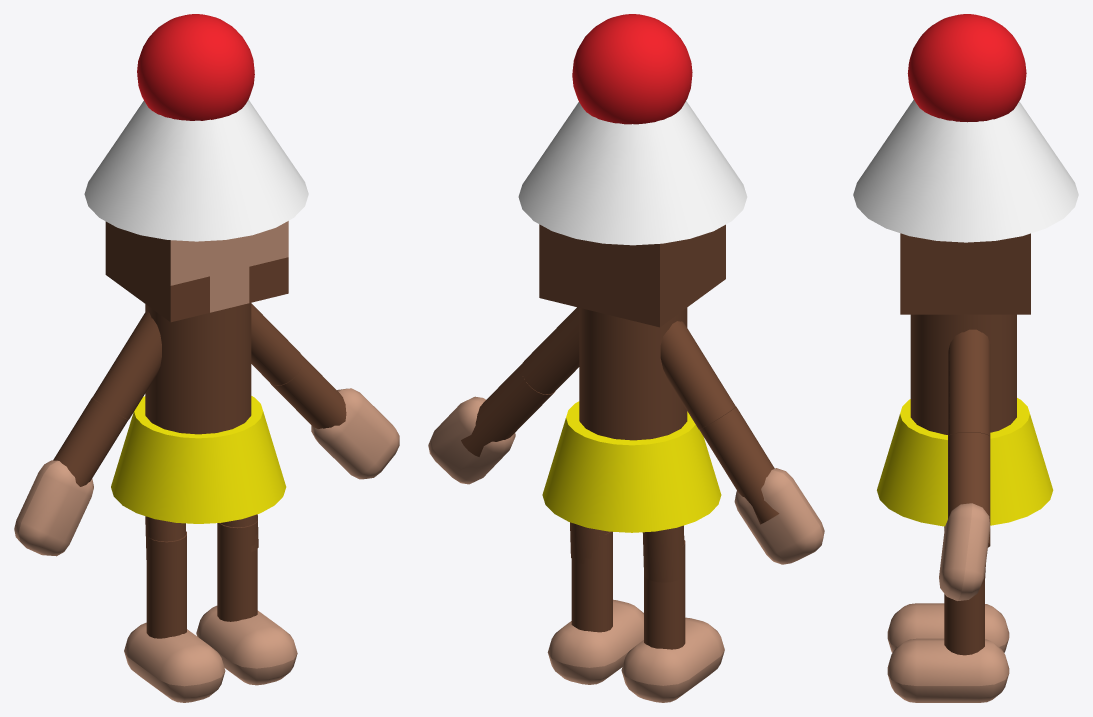
File: Saru.fbx
3 views of the same model, side by side, from view 1: azimuth 30°, elevation 25°; view 2: azimuth 150°, elevation 25°; view 3: azimuth 270°, elevation 25° (orthographic). The views are drawn at different scales.
Parts seen in each view (by area): view 1: Cone002, Cone001, Box003, Cylinder003, Sphere001, ChamferBox001, ChamferBox002, ChamferBox004, ChamferBox003, Cylinder002, Cylinder005, Cylinder001 (+4 smaller); view 2: Cone002, Cone001, Box003, Cylinder003, Sphere001, ChamferBox001, ChamferBox004, ChamferBox002, Cylinder005, Cylinder004, ChamferBox003, Cylinder001 (+5 smaller); view 3: Cone002, Cone001, Sphere001, Box003, Cylinder003, ChamferBox002, Cylinder006, ChamferBox003, Cylinder007, ChamferBox001, Cylinder001.
Boxes of the visible parts, x1,y1,x2,y2 form: Cone002: [84, 99, 308, 241]; Cone001: [111, 396, 286, 523]; Box003: [105, 221, 288, 322]; Cylinder003: [145, 303, 251, 434]; Sphere001: [137, 14, 254, 120]; ChamferBox001: [124, 622, 225, 702]; ChamferBox002: [196, 605, 297, 685]; ChamferBox004: [14, 460, 93, 556]; ChamferBox003: [311, 388, 399, 479]; Cylinder002: [146, 531, 186, 638]; Cylinder005: [92, 311, 161, 419]; Cylinder001: [217, 521, 257, 621]; Cone002: [518, 101, 747, 245]; Cone001: [542, 401, 721, 532]; Box003: [539, 224, 725, 327]; Cylinder003: [579, 307, 687, 440]; Sphere001: [572, 14, 692, 124]; ChamferBox001: [621, 617, 724, 702]; ChamferBox004: [734, 468, 824, 564]; ChamferBox002: [547, 599, 643, 684]; Cylinder005: [660, 321, 735, 429]; Cylinder004: [699, 406, 779, 524]; ChamferBox003: [428, 396, 515, 484]; Cylinder001: [571, 531, 612, 632]; Cone002: [853, 99, 1078, 242]; Cone001: [877, 398, 1053, 526]; Sphere001: [907, 14, 1026, 122]; Box003: [900, 233, 1030, 314]; Cylinder003: [910, 314, 1016, 434]; ChamferBox002: [887, 638, 1009, 702]; Cylinder006: [948, 329, 990, 436]; ChamferBox003: [939, 503, 990, 600]; Cylinder007: [948, 432, 990, 547]; ChamferBox001: [887, 603, 1009, 652]; Cylinder001: [944, 582, 984, 655].
Size of the model in its own units: 88.75 by 45.21 by 145.
Materials: 5 (5 with a texture image).
